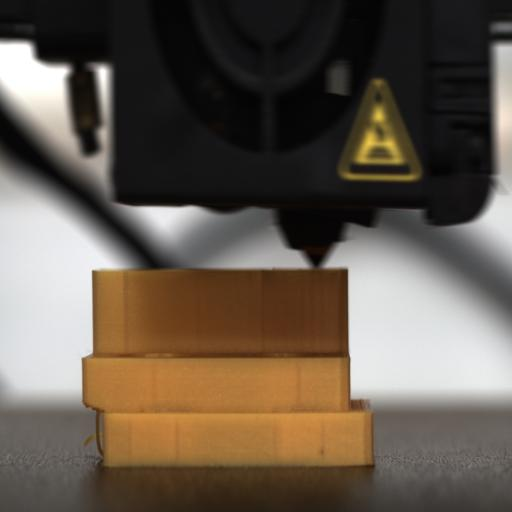layer_shift: (82, 392, 376, 421)
